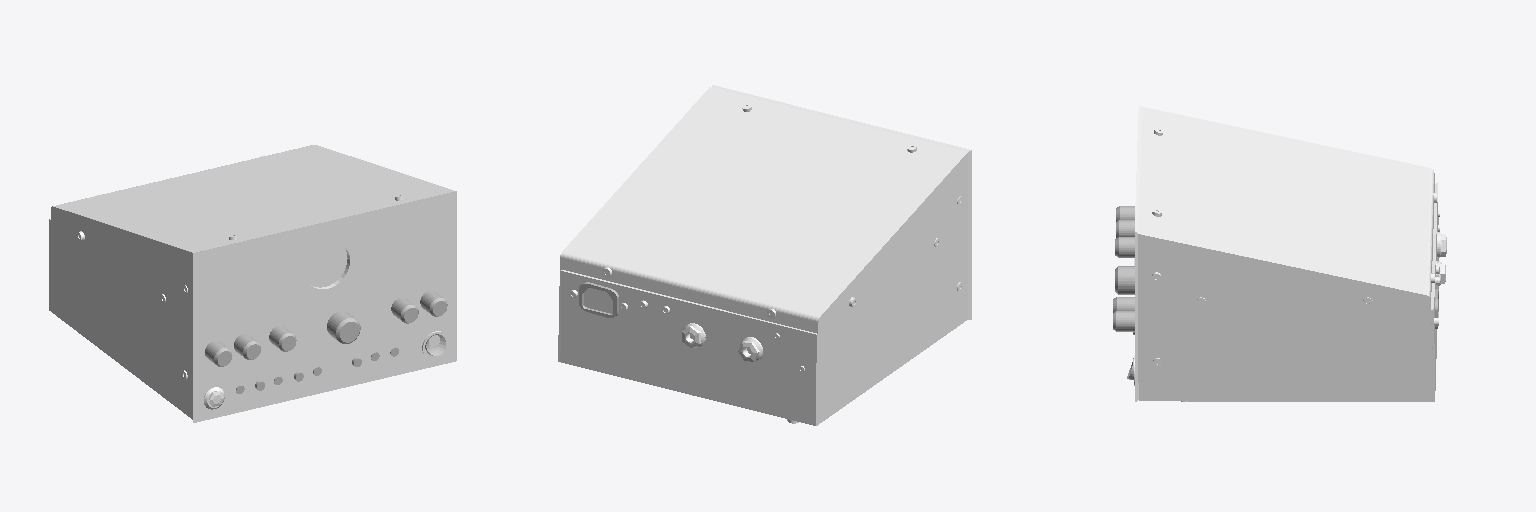
The model's file is TLAudio_FAT2_SF.obj.
The picture shows the model from 3 angles: view 1: azimuth 30°, elevation 25°; view 2: azimuth 150°, elevation 25°; view 3: azimuth 270°, elevation 25°; orthographic projection.
Parts seen in each view (by area): view 1: TLAudio_FAT2; view 2: TLAudio_FAT2; view 3: TLAudio_FAT2.
Part boxes in pixels (left/top/right/bottom): TLAudio_FAT2: left=49, top=145, right=456, bottom=422; TLAudio_FAT2: left=558, top=85, right=971, bottom=425; TLAudio_FAT2: left=1113, top=105, right=1446, bottom=401.
Size of the model in its own units: 3.37 by 2.1 by 3.66.